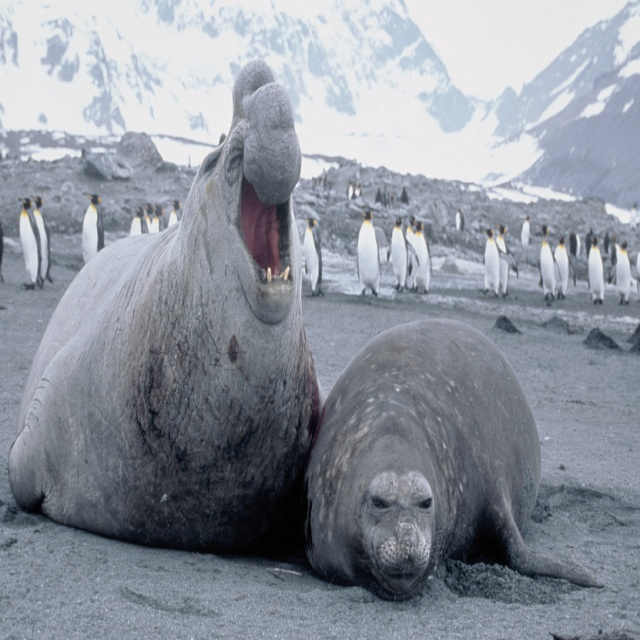Harbor seal: (8, 60, 325, 550), (300, 318, 605, 602)
